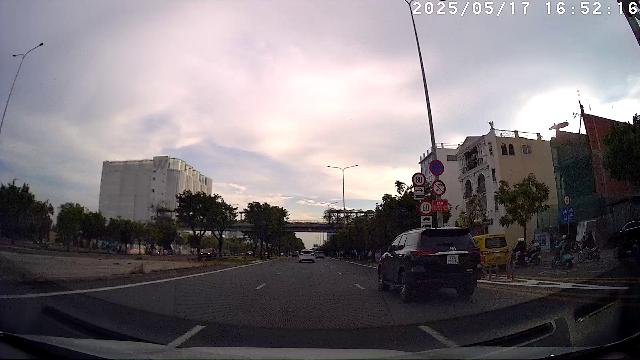127-toc-do-toi-da-60: (418, 199, 433, 216)
127-toc-do-toi-da-80: (412, 172, 426, 186)
